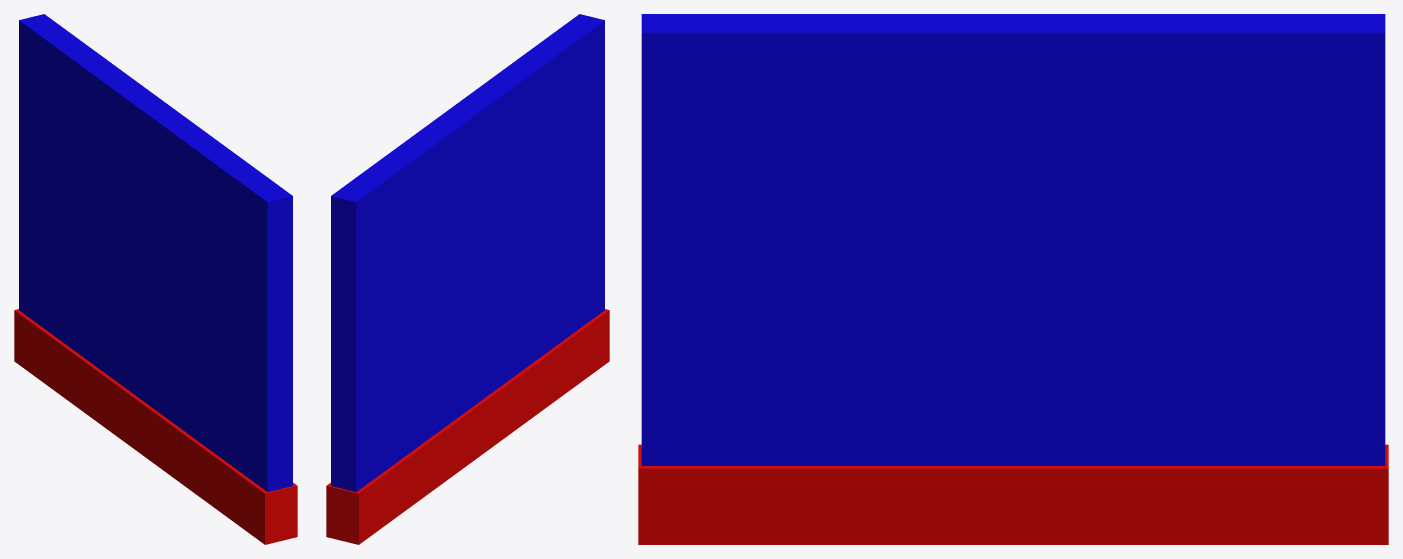
File: Wall.fbx
The picture shows the model from 3 angles, left to right: view 1: azimuth 30°, elevation 25°; view 2: azimuth 150°, elevation 25°; view 3: azimuth 270°, elevation 25°; orthographic projection. The views are drawn at different scales.
Parts seen in each view (by area): view 1: Wall; view 2: Wall; view 3: Wall.
Boxes of the visible parts, x1,y1,x2,y2 form: Wall: (14,14,297,544); Wall: (326,14,609,544); Wall: (638,14,1388,544).
Bounding box in the file's own units: 30 × 300 × 400.
